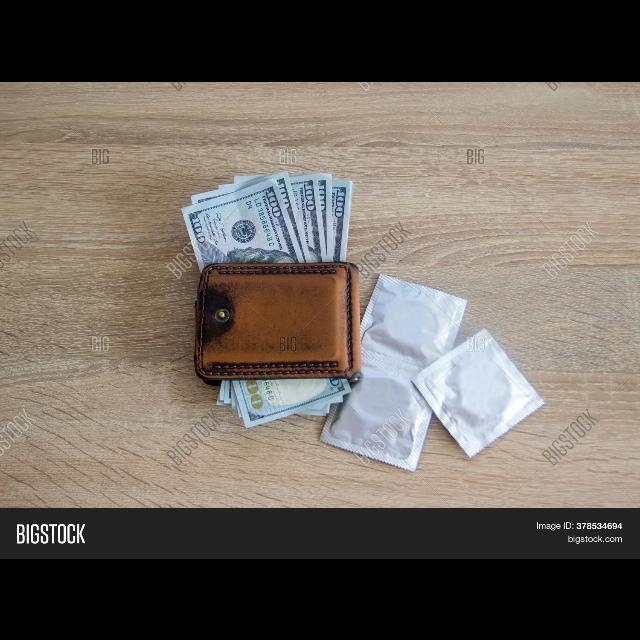wallet: (192, 265, 358, 373)
